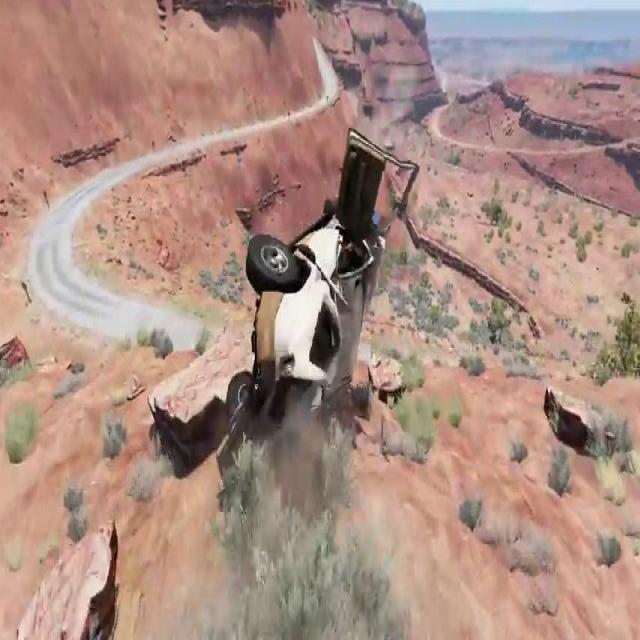severe: (224, 126, 390, 429)
